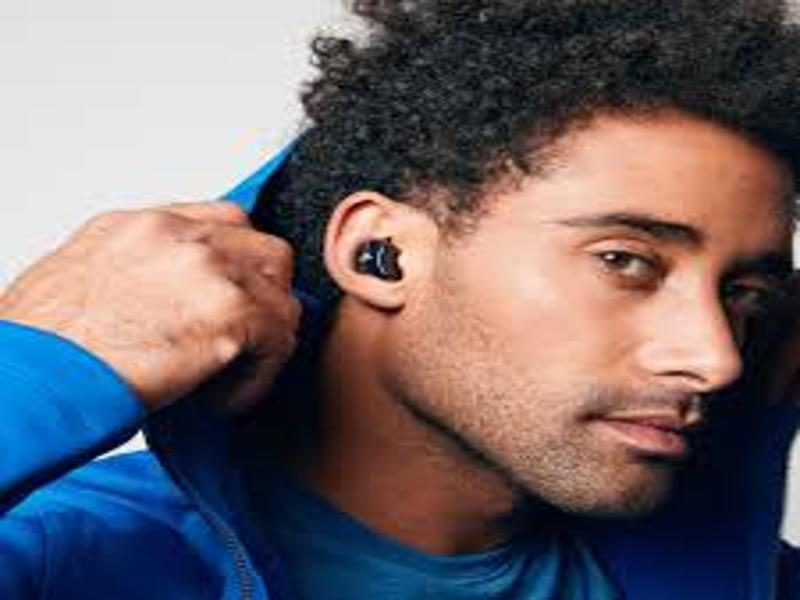headphone: (352, 235, 406, 284)
